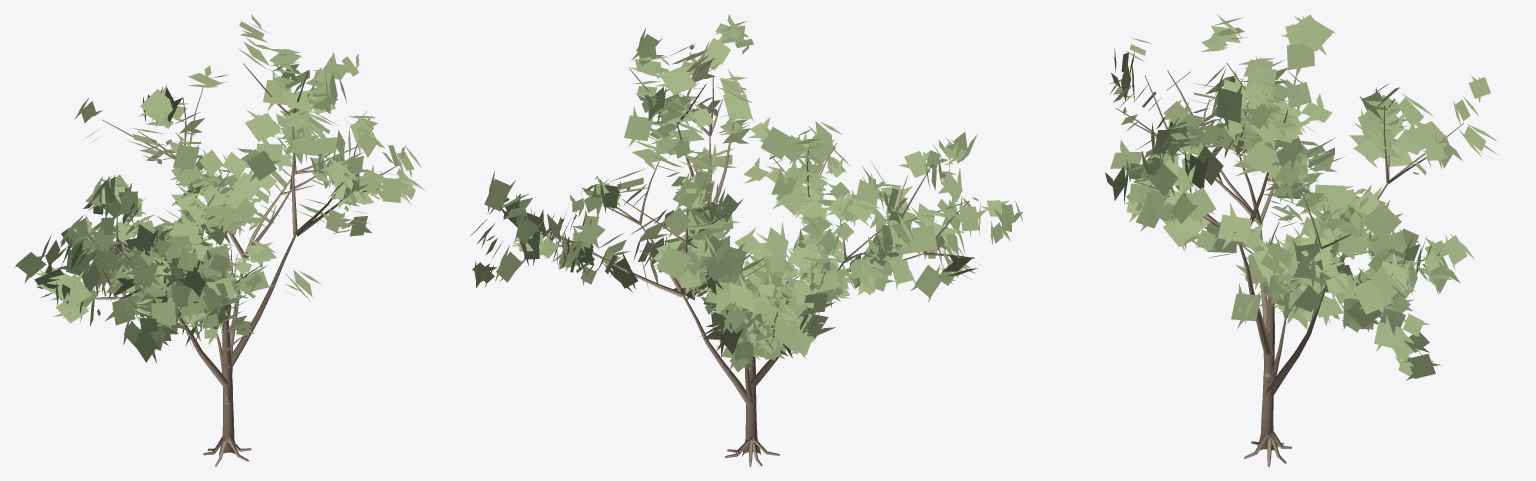
Rendered from tree-d-close.glb.
3 views of the same model, side by side, from view 1: azimuth 30°, elevation 25°; view 2: azimuth 150°, elevation 25°; view 3: azimuth 270°, elevation 25° (orthographic). The views are drawn at different scales.
Visible parts, largest first — view 1: leafB, wood; view 2: leafB, wood; view 3: leafB, wood.
Part boxes in pixels (x1,y1,x2,y2): leafB: [14, 14, 425, 363]; wood: [83, 57, 396, 466]; leafB: [470, 14, 1023, 372]; wood: [513, 42, 974, 466]; leafB: [1105, 14, 1498, 380]; wood: [1115, 63, 1463, 466].
Size of the model in its own units: 10.48 by 9.27 by 8.67.
